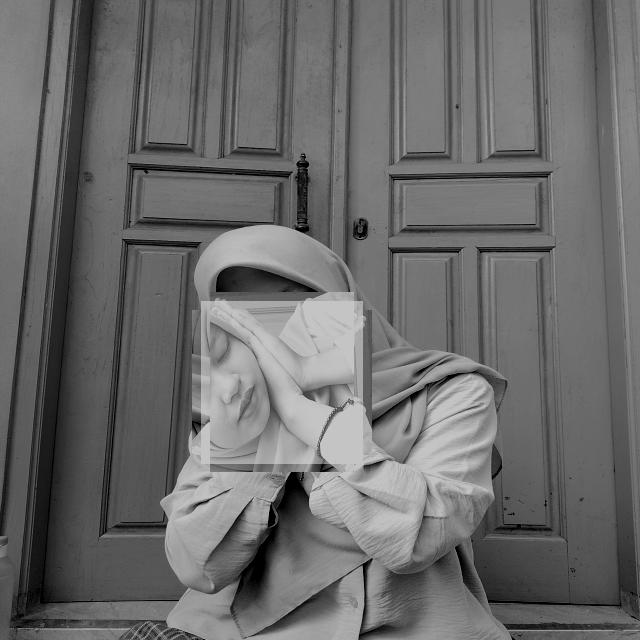tidur: (201, 301, 363, 464)
